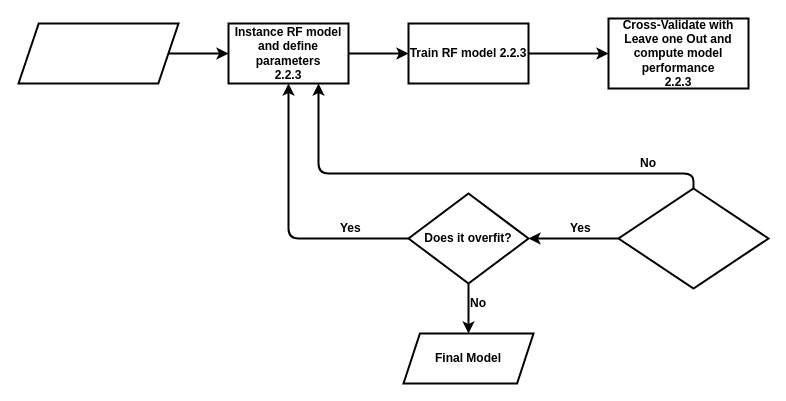
This 786x401 diagram has some shape labels left out. The shapes that lost their labels are listed below. From the top down, each one's centre as x and y in pixels, then its label:
At point (98, 53): "Training Dataframe 2.2.3".
At point (693, 238): "Are the metrics good for predicting new inputs?".
